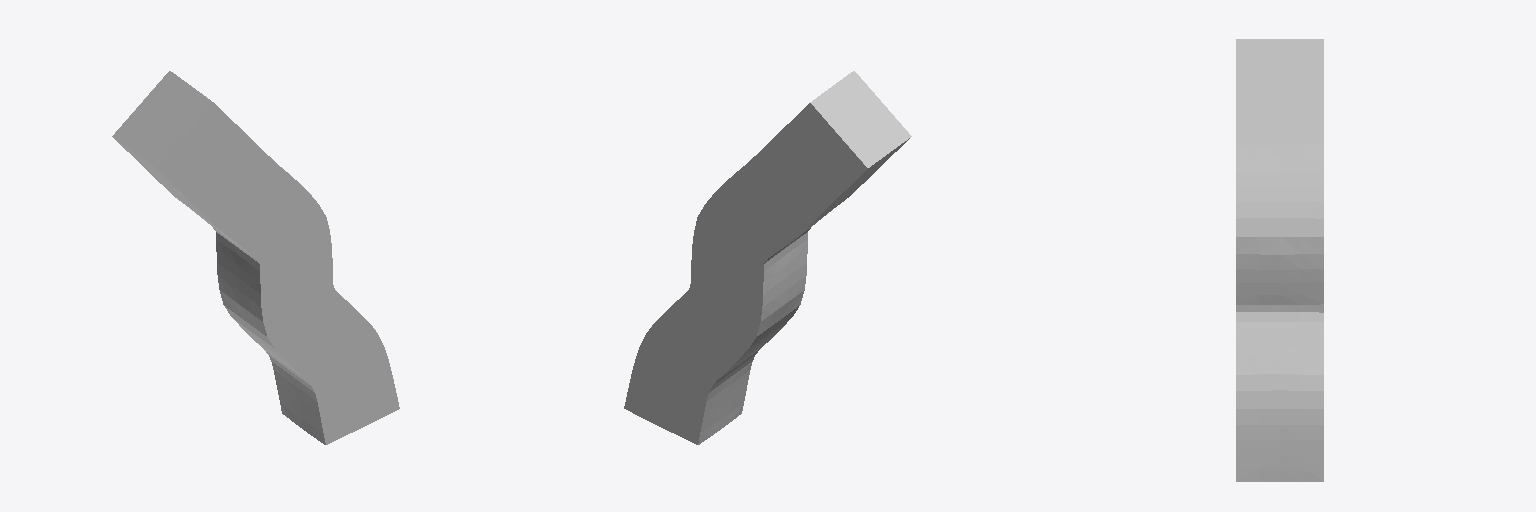
Rendered from skeleton_test.obj.
3 renders of one model, left to right at view 1: azimuth 30°, elevation 25°; view 2: azimuth 150°, elevation 25°; view 3: azimuth 270°, elevation 25°, orthographic.
Visible parts, largest first — view 1: Cube; view 2: Cube; view 3: Cube.
Part boxes in pixels (left/top/right/bottom): Cube: left=112, top=71, right=399, bottom=444; Cube: left=624, top=71, right=911, bottom=444; Cube: left=1236, top=39, right=1323, bottom=481.
Size of the model in its own units: 6.4 by 9.28 by 2.